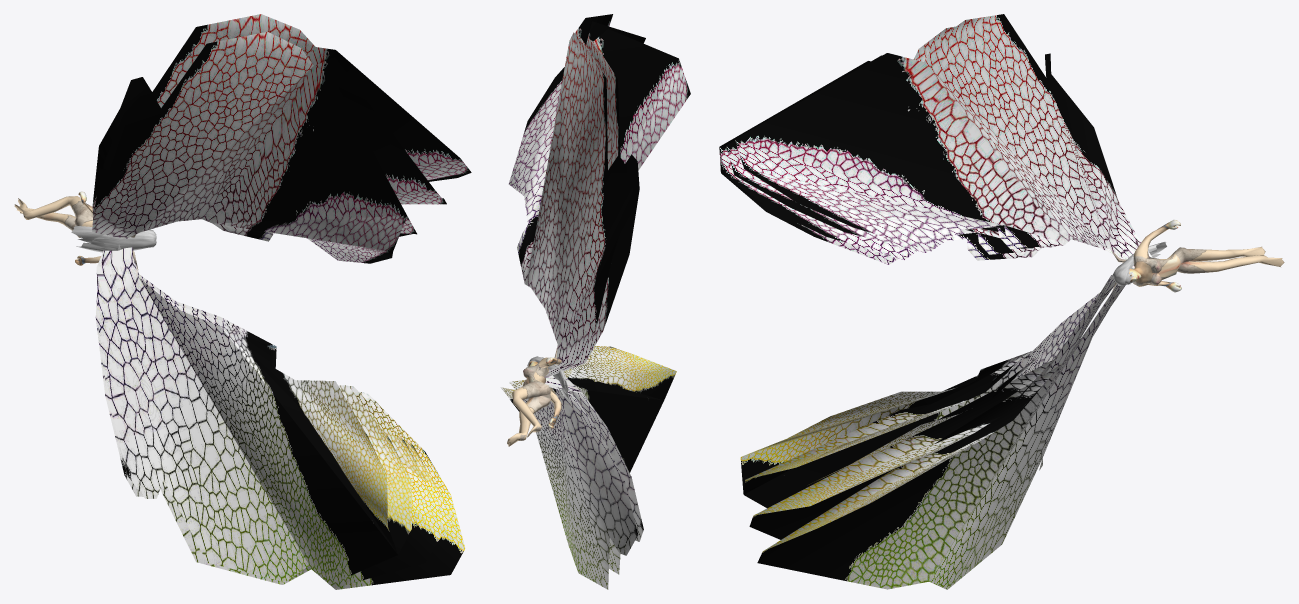
The model's file is angel_000234.obj.
3 renders of one model, left to right at view 1: azimuth 30°, elevation 25°; view 2: azimuth 150°, elevation 25°; view 3: azimuth 270°, elevation 25°, orthographic. The views are drawn at different scales.
Visible parts, largest first — view 1: wings_Plane.001, body.001_omino.012, hair.003_omino.013; view 2: wings_Plane.001, body.001_omino.012, hair.003_omino.013; view 3: wings_Plane.001, body.001_omino.012.
Boxes of the visible parts, x1,y1,x2,y2 form: wings_Plane.001: (92,14,471,589); body.001_omino.012: (14,191,138,269); hair.003_omino.013: (71,225,156,252); wings_Plane.001: (500,14,690,589); body.001_omino.012: (507,346,561,446); hair.003_omino.013: (527,356,569,399); wings_Plane.001: (719,14,1152,589); body.001_omino.012: (1111,219,1284,292).
Bounding box in the file's own units: 3.96 × 9.79 × 8.9.
